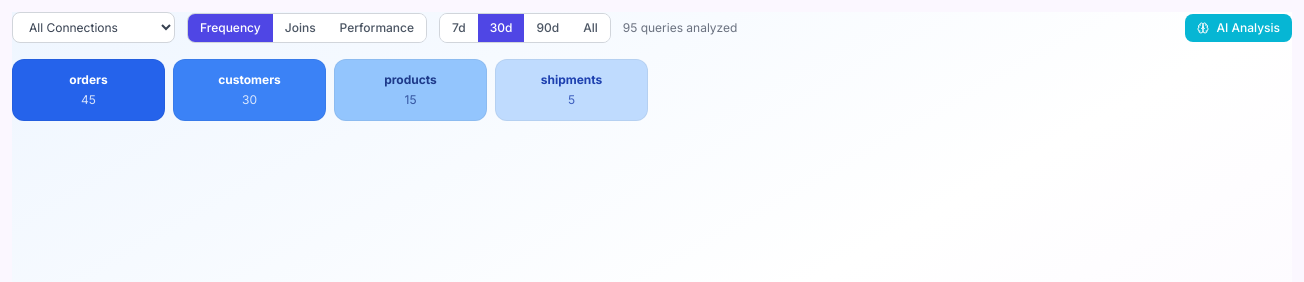
Scenario: QueryPatternHeatmap › clicking a cell shows detail panel
This screenshot has width=1304, height=282.
Click the text "orders".
click(89, 80)  # box [69,72,108,87]
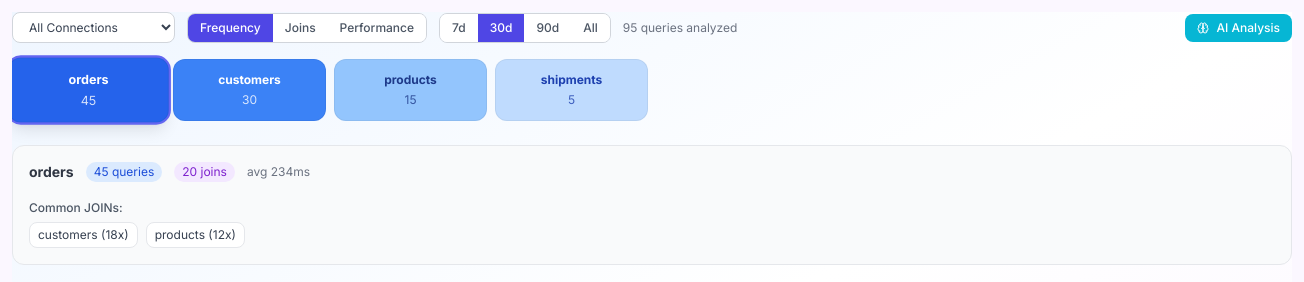
Now the text "45 queries" is shown, box [86,162,162,182]
Now the text "20 joins" is shown, box [174,162,235,182]
